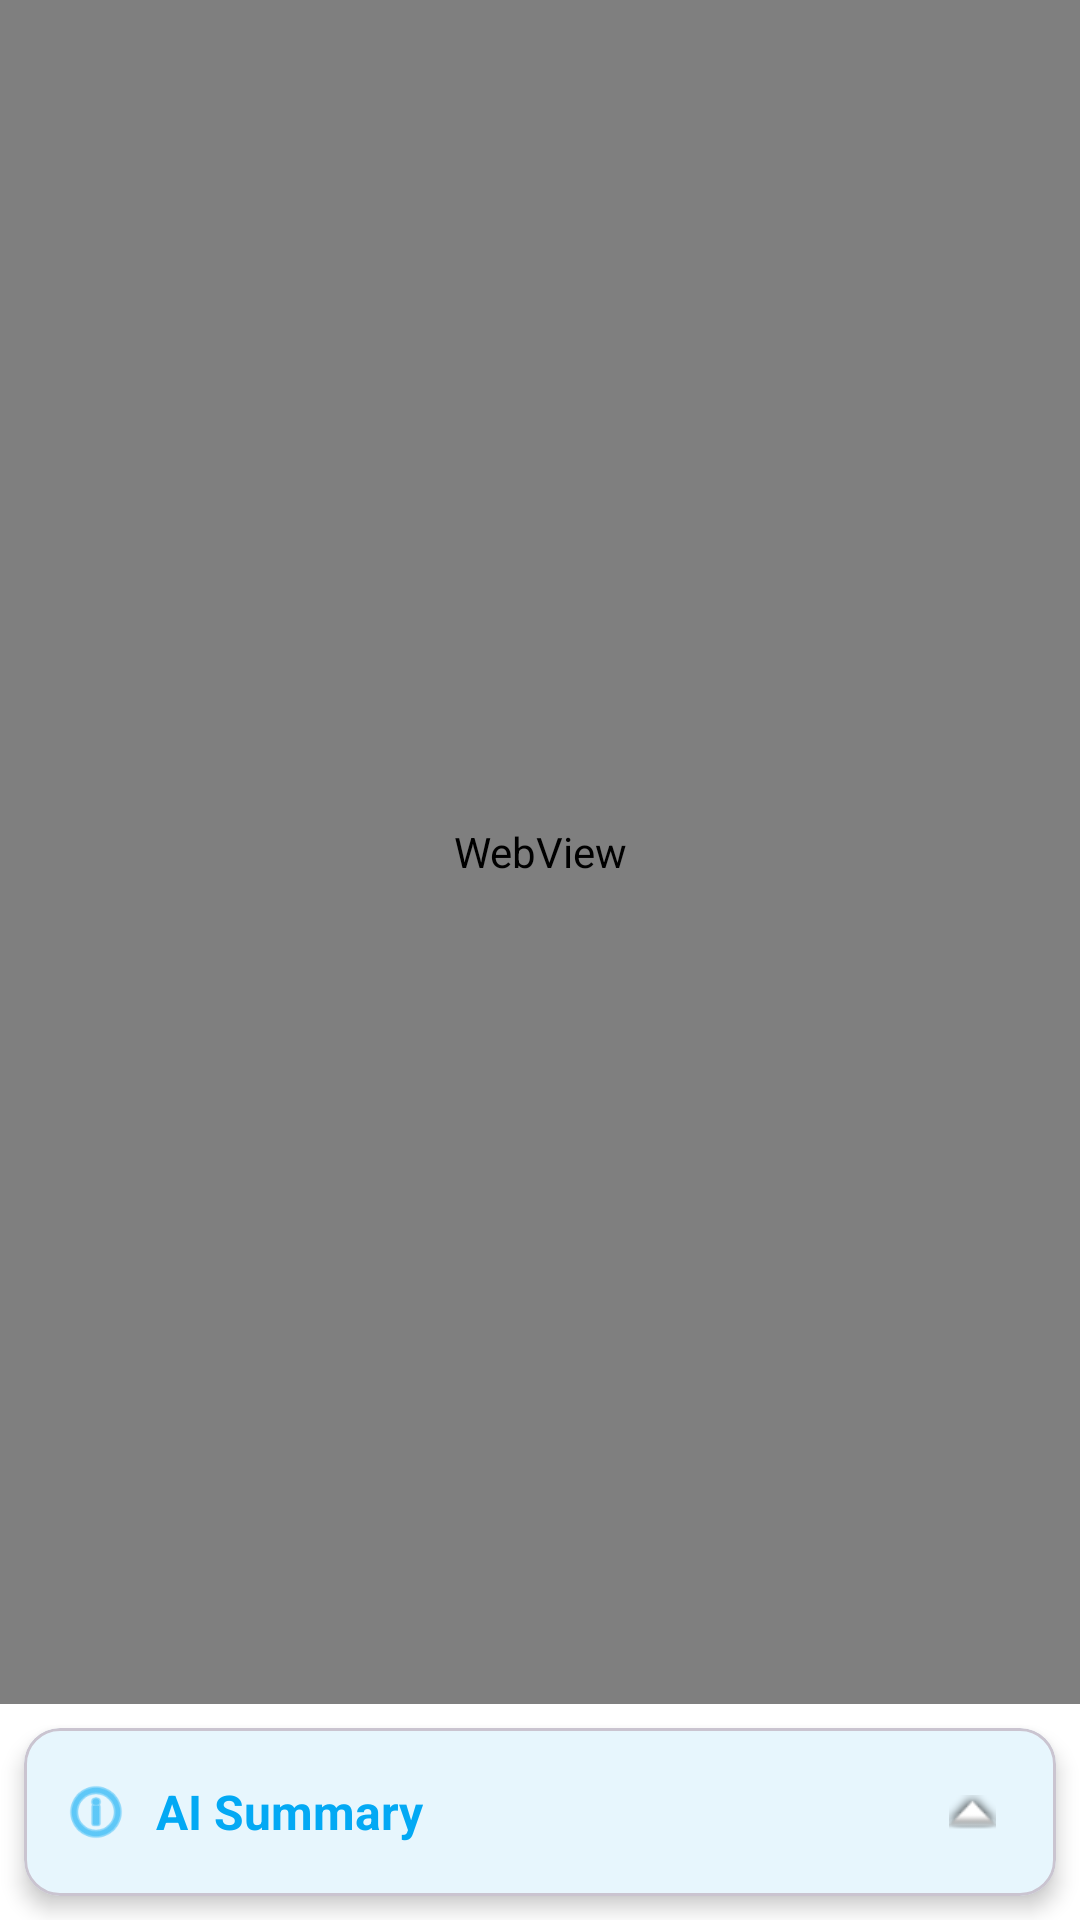

Icon click points for this 1080×1920 phone screenshot, format point (x, y):
Expand or collapse: point (972, 1812)
